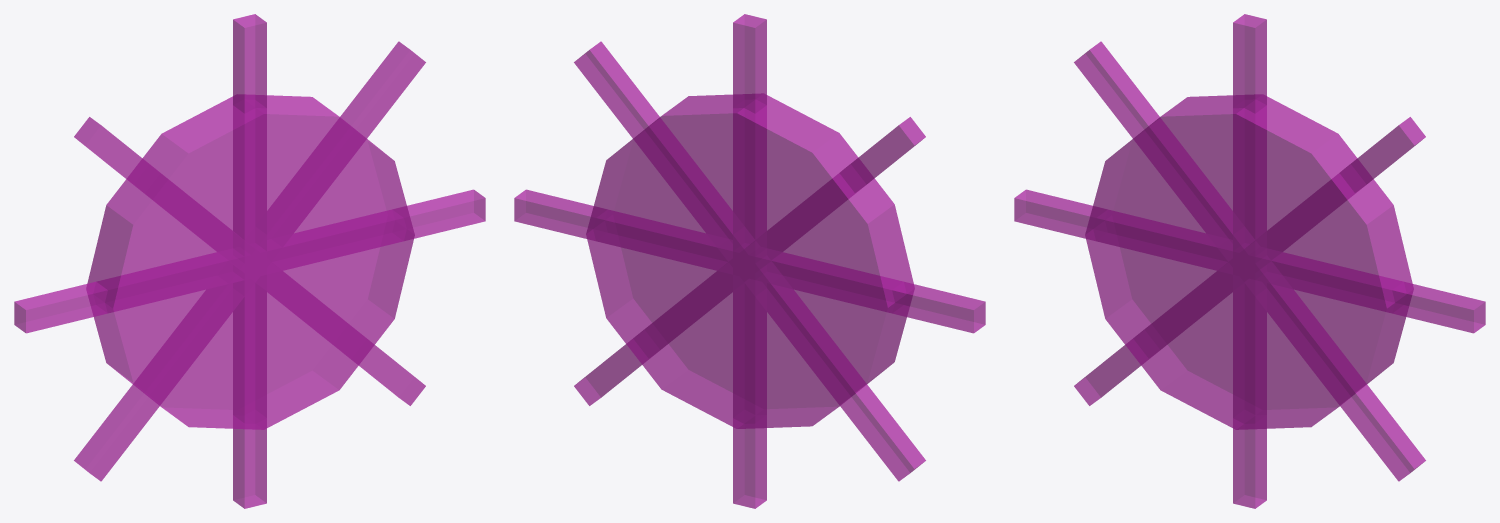
File: SM_Veh_Helm_01_Wheel_01_Collision.fbx
3 renders of one model, left to right at view 1: azimuth 30°, elevation 25°; view 2: azimuth 150°, elevation 25°; view 3: azimuth 330°, elevation 25°, orthographic.
Visible parts, largest first — view 1: SM_Veh_Helm_01_Wheel_01_Collision; view 2: SM_Veh_Helm_01_Wheel_01_Collision; view 3: SM_Veh_Helm_01_Wheel_01_Collision.
Boxes of the visible parts, x1,y1,x2,y2 form: SM_Veh_Helm_01_Wheel_01_Collision: (14, 14, 485, 508); SM_Veh_Helm_01_Wheel_01_Collision: (514, 14, 985, 508); SM_Veh_Helm_01_Wheel_01_Collision: (1014, 14, 1485, 508).
Size of the model in its own units: 134 by 134 by 13.66.
